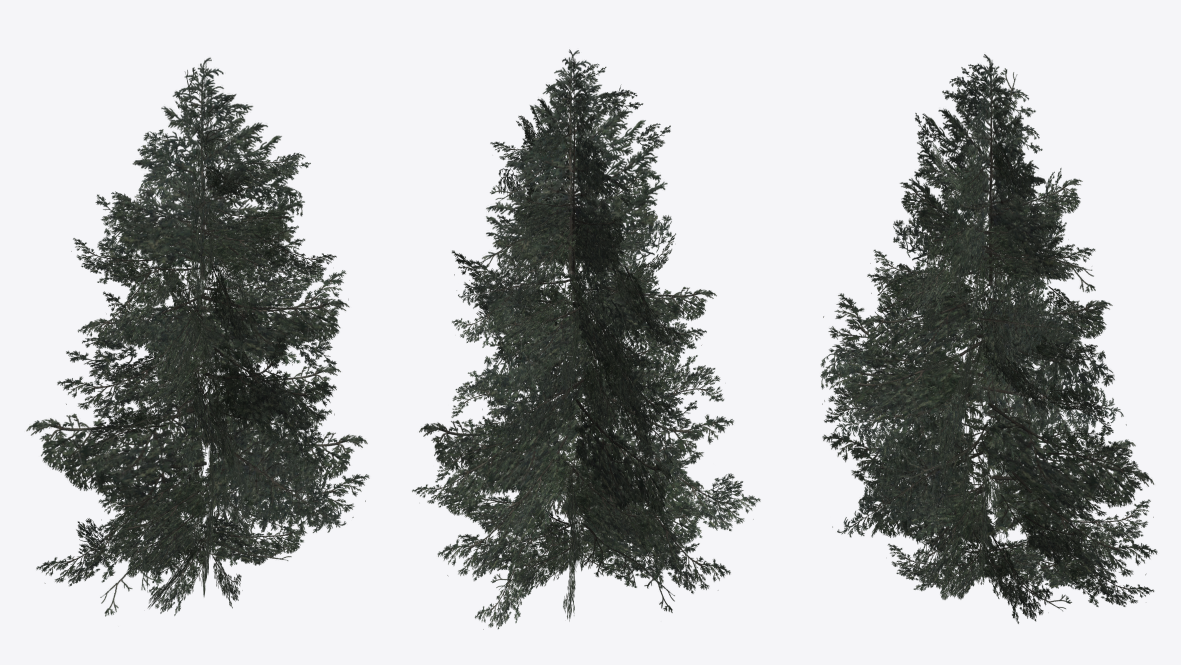
The model's file is forest_shrub_01.glb.
3 renders of one model, left to right at view 1: azimuth 30°, elevation 25°; view 2: azimuth 150°, elevation 25°; view 3: azimuth 270°, elevation 25°, orthographic. The views are drawn at different scales.
Visible parts, largest first — view 1: Tree_Branches_01.001_Tree_Branches_01_0; view 2: Tree_Branches_01.001_Tree_Branches_01_0; view 3: Tree_Branches_01.001_Tree_Branches_01_0.
Part boxes in pixels (left/top/right/bottom): Tree_Branches_01.001_Tree_Branches_01_0: left=26, top=57, right=369, bottom=616; Tree_Branches_01.001_Tree_Branches_01_0: left=412, top=49, right=760, bottom=629; Tree_Branches_01.001_Tree_Branches_01_0: left=820, top=54, right=1157, bottom=623.
Size of the model in its own units: 1.59 by 2.5 by 1.47.
Materials: 1 (1 with a texture image).
